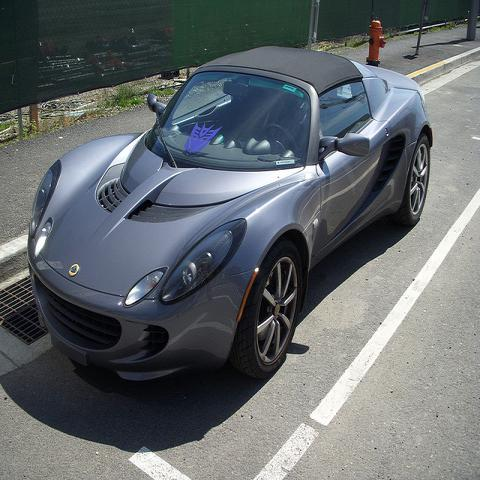car: (28, 47, 432, 380)
